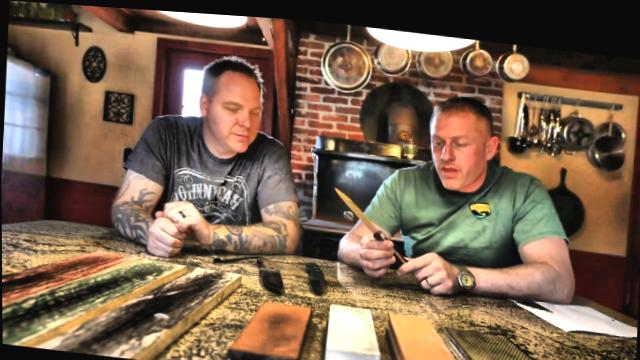knife: (323, 172, 401, 258)
